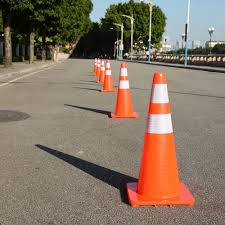cones: (128, 74, 195, 207), (108, 64, 140, 119), (101, 59, 117, 95), (96, 61, 106, 83), (94, 59, 102, 76)
